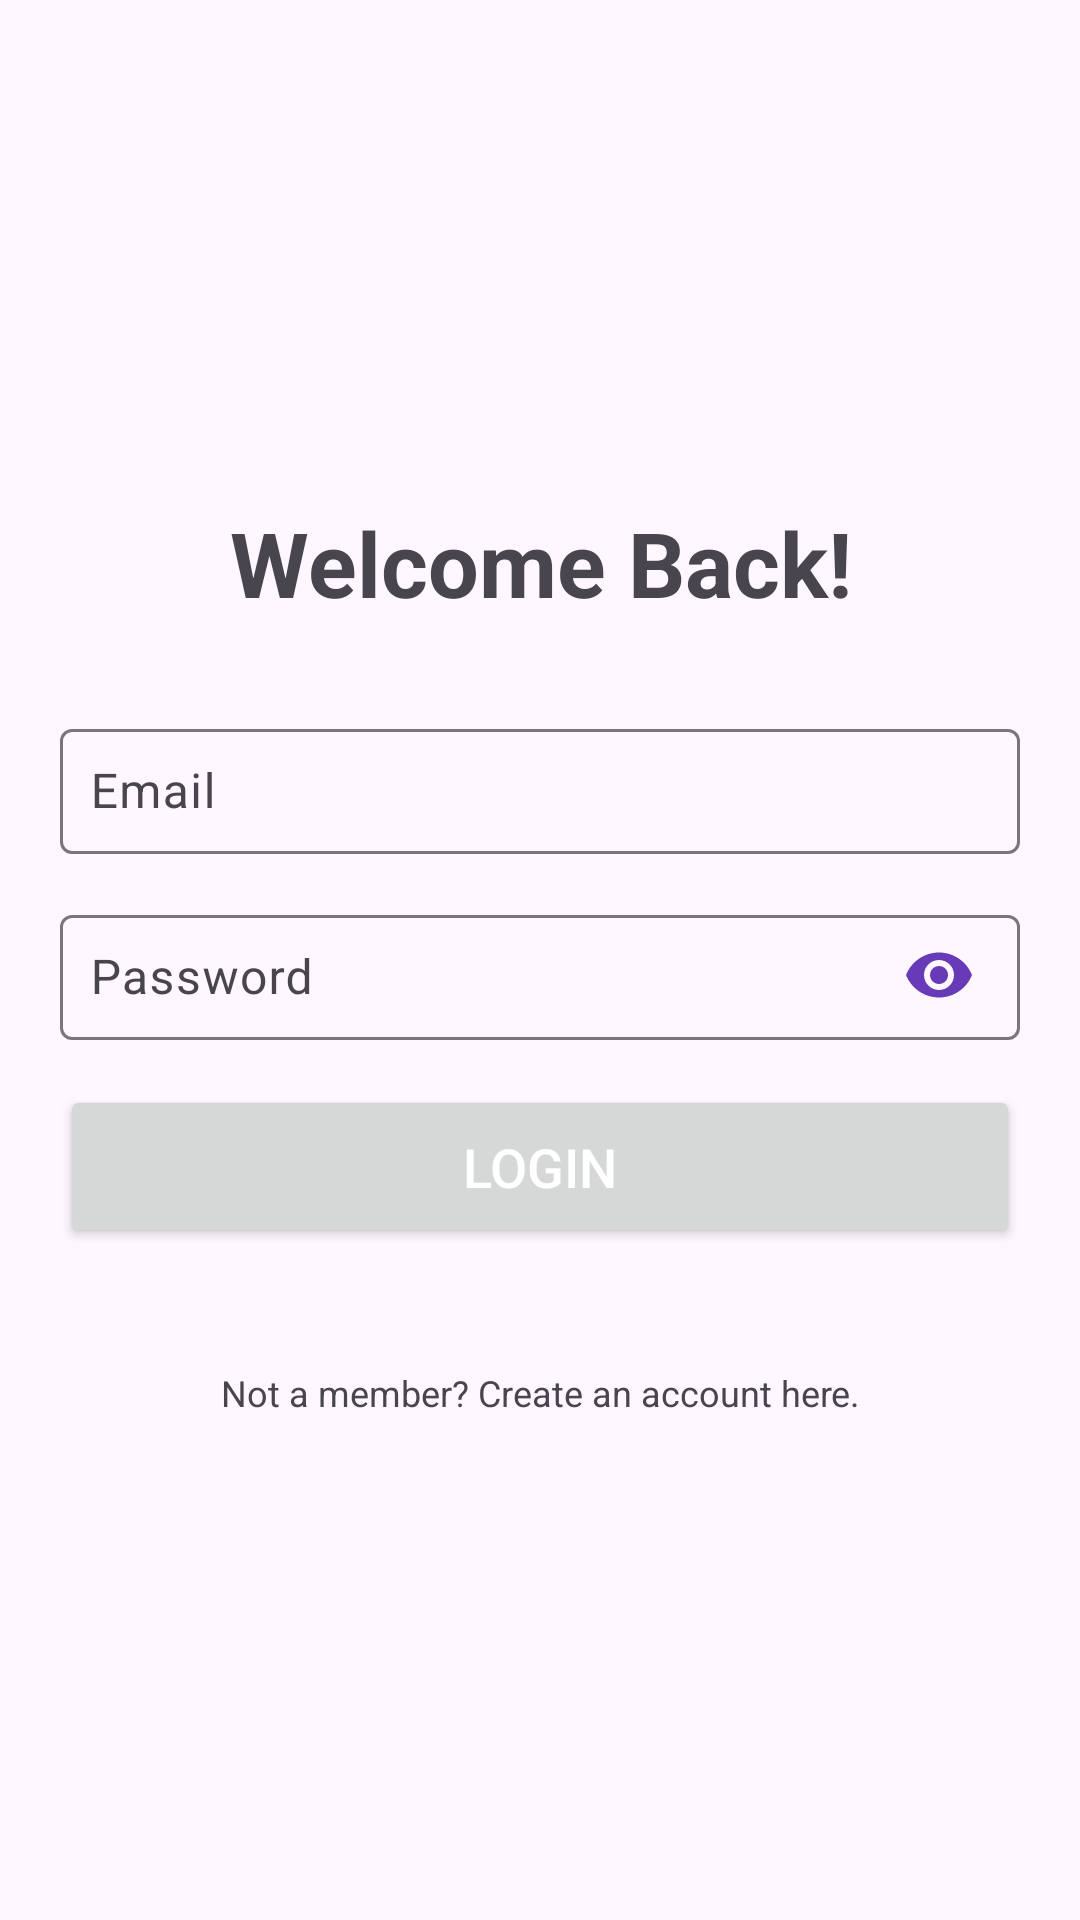

Named icons in this screenshot (1080px×1920px) and their bounding boxes, (x1, y1, x2, y2):
visibility: (906, 952, 972, 998)
